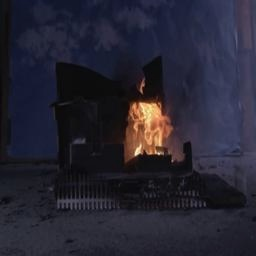fire: (120, 84, 175, 159)
